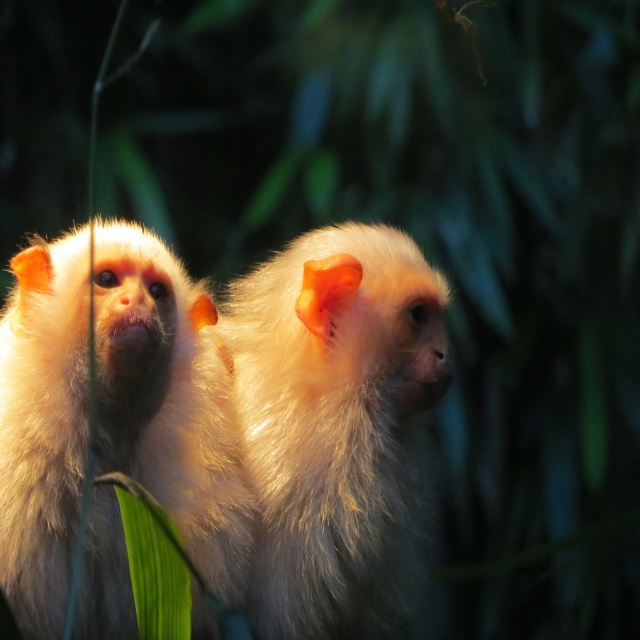Monkey: (130, 219, 460, 639), (0, 209, 264, 628)
